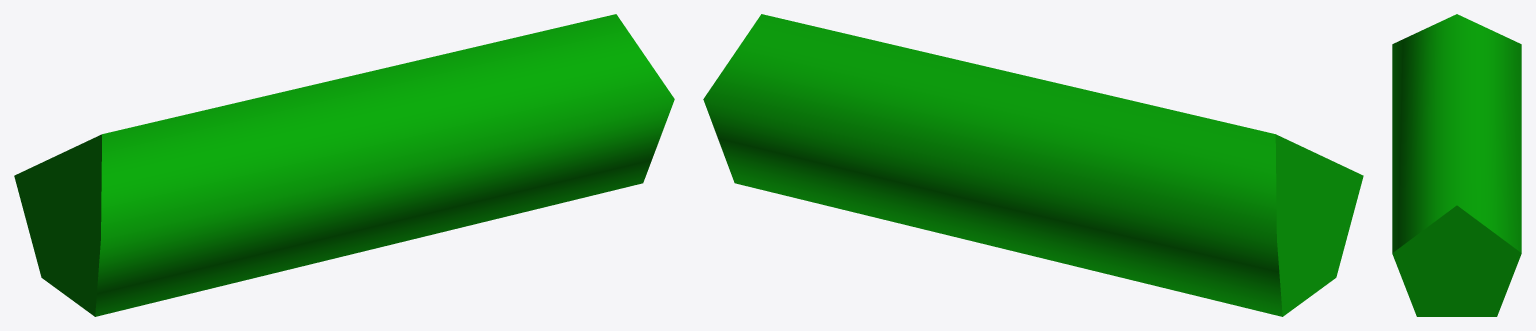
The model's file is Crayon_D.FBX.
The picture shows the model from 3 angles, left to right: view 1: azimuth 30°, elevation 25°; view 2: azimuth 150°, elevation 25°; view 3: azimuth 270°, elevation 25°; orthographic projection. The views are drawn at different scales.
Parts seen in each view (by area): view 1: Crayon_And_Chalk; view 2: Crayon_And_Chalk; view 3: Crayon_And_Chalk.
Part boxes in pixels (box(x1,y1,x2,y2)): Crayon_And_Chalk: box(14, 14, 674, 316); Crayon_And_Chalk: box(703, 14, 1363, 316); Crayon_And_Chalk: box(1392, 14, 1521, 316).
Size of the model in its own units: 29.04 by 7.49 by 7.61.
